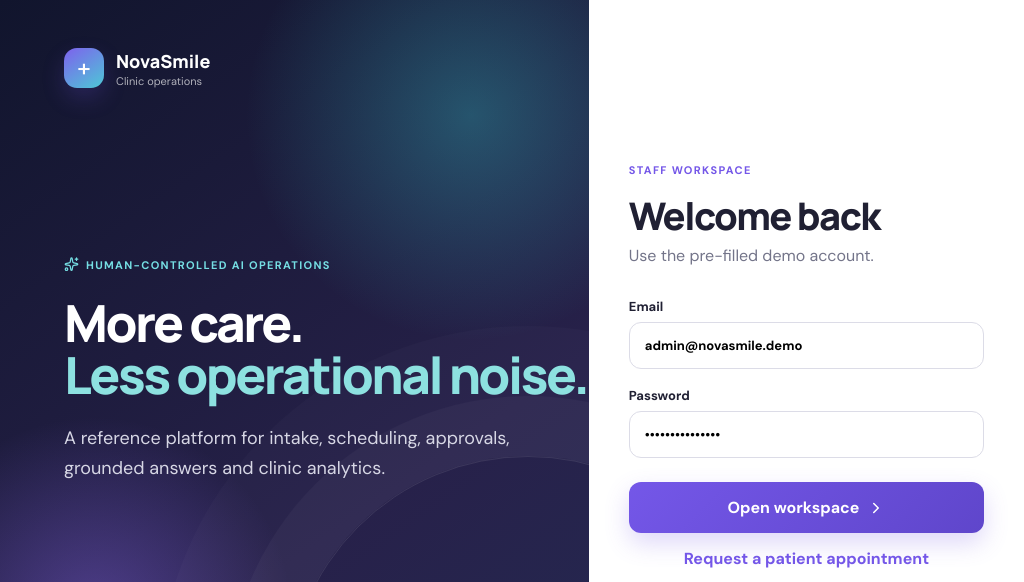
Test case: clinic web application › opens AI assistant safety workspace
The width and height of the screenshot is (1024, 582).
Click the button "Open workspace" at (806, 508), box [629,482,984,533]
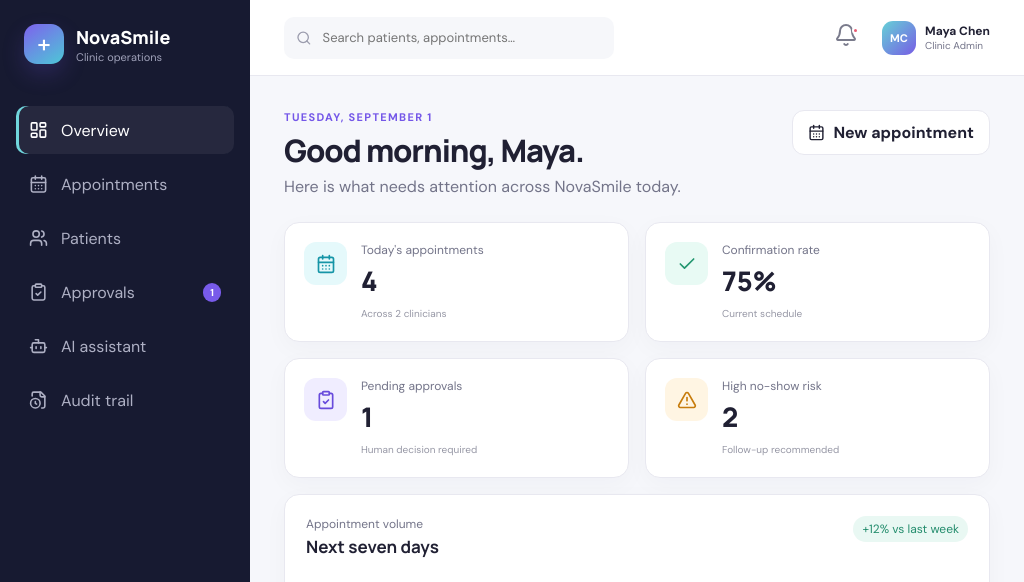
Check: the heading "Good morning, Maya." is shown, box [284,129,584,171]
Click the button "AI assistant" at (125, 346), box [16,322,234,370]
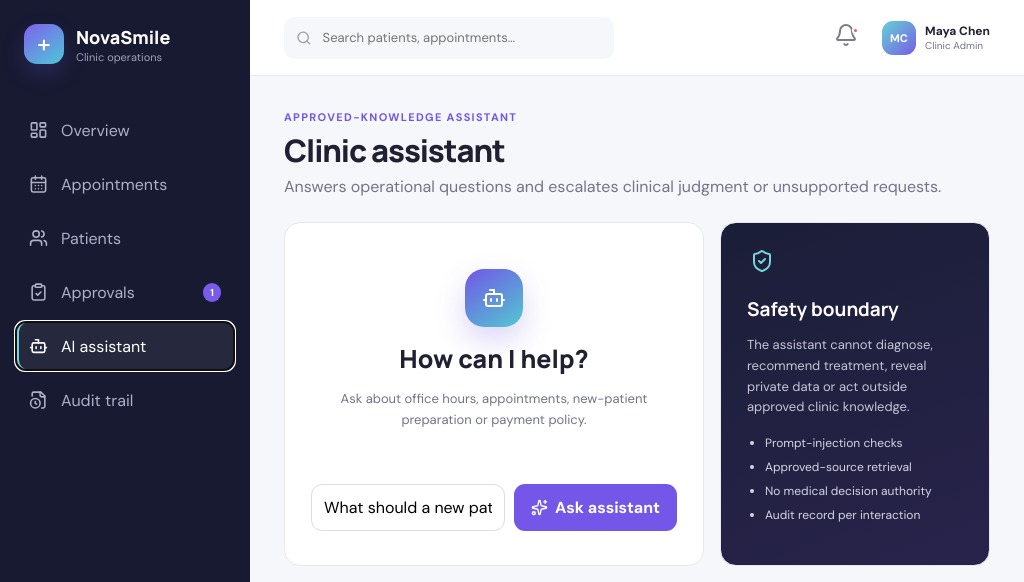
Check: the heading "Safety boundary" is shown, box [747,296,899,322]
